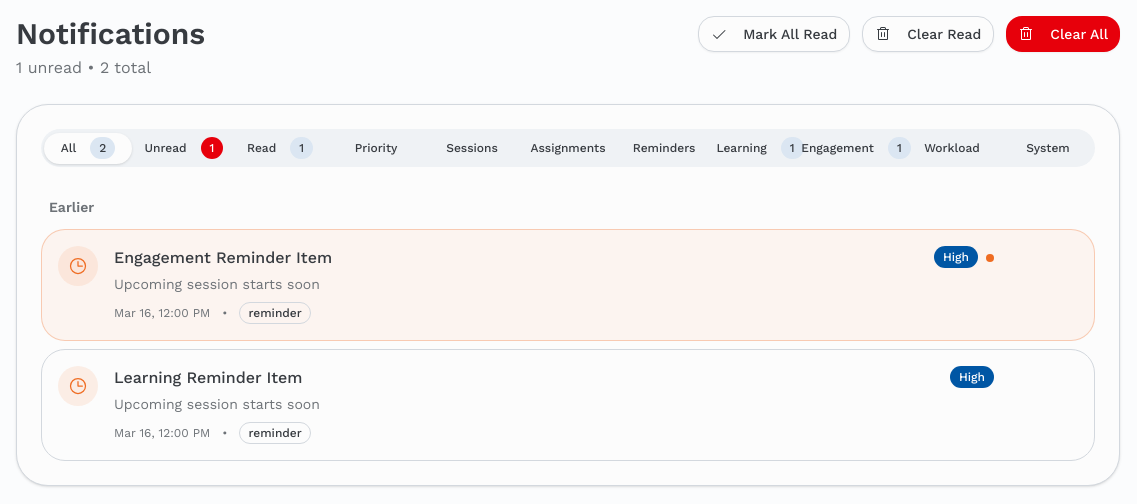
Test case: Notifications › filters notifications by engagement reminder tab using metadata keys
Click the tab "Engagement 1". click: {"x": 856, "y": 148}
box: top-left (812, 132), bottom-right (900, 164)
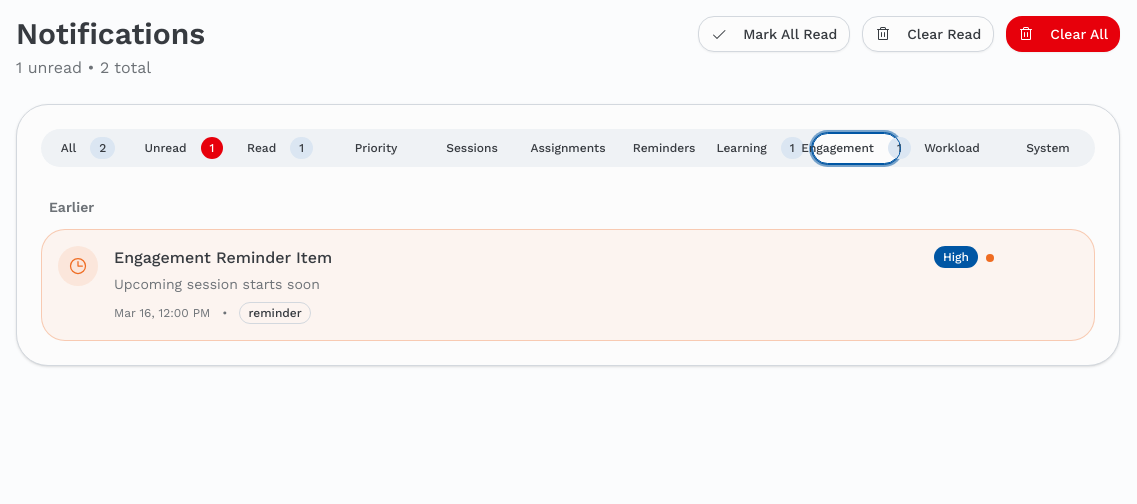
Expected: the text "Engagement Reminder Item" is shown, top-left (114, 248), bottom-right (332, 267)
Result: the button "Learning Reminder Item" is gone
